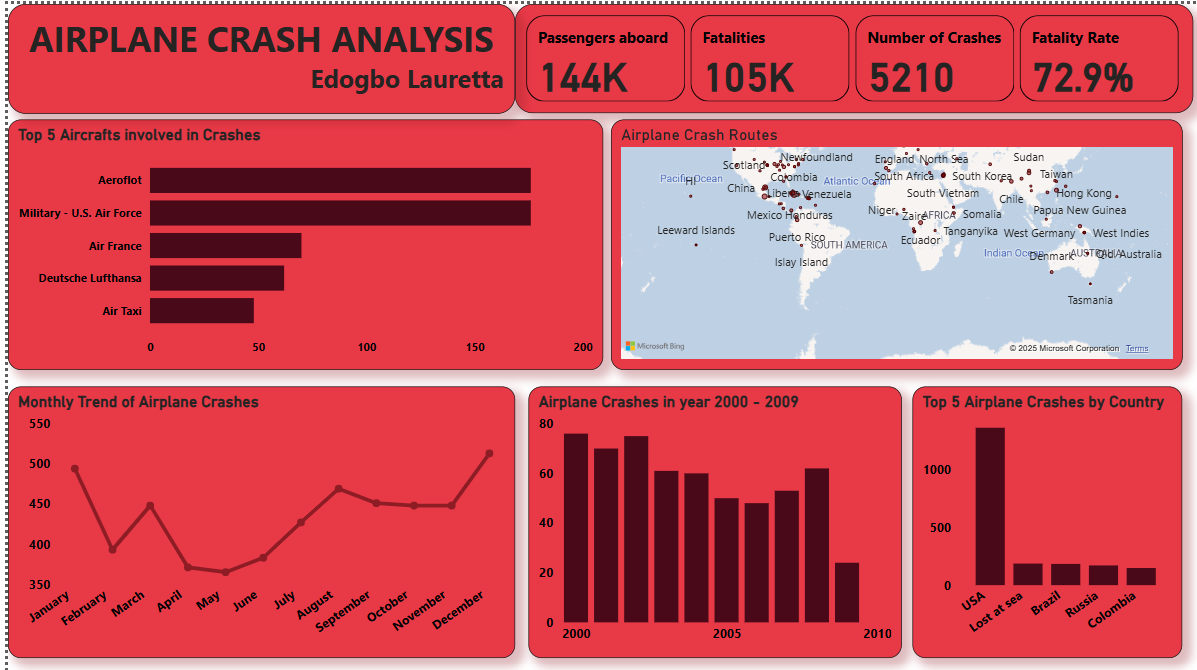

This screenshot's page, from the dashboard's own definition file:
{"tool":"powerbi","page":{"name":"Page 1","canvas":[1280,720],"ordinal":0},"visuals":[{"type":"cardVisual","fields":{"Data":["Measure.Passengers aboard","Measure.Fatalities","Measure.Number of Crashes","Measure.Fatality Rate"]},"box":[545.2,0,729,117],"z":0},{"type":"lineChart","title":"Monthly Trend of Airplane Crashes","fields":{"Category":["Calendar.Date.Variation.Date Hierarchy.Month"],"Y":["Measure.Number of Crashes"]},"box":[0,411.3,545.2,291.9],"z":1000},{"type":"clusteredBarChart","title":"Top 5 Aircrafts involved in Crashes","fields":{"Category":["Airplane_Crashes_and_Fatalities.Operator"],"Y":["Measure.Number of Crashes"]},"box":[0,124.2,640.3,269.4],"z":2000},{"type":"map","title":"Airplane Crash Routes","fields":{"Category":["Airplane_Crashes_and_Fatalities.Country"],"Size":["Measure.Number of Crashes"]},"box":[648.4,124.2,614.5,269.4],"z":3000},{"type":"textbox","box":[0,0,545.2,117.7],"z":4000},{"type":"clusteredColumnChart","title":"Airplane Crashes in year 2000 - 2009","fields":{"Y":["Measure.Number of Crashes"],"Category":["Calendar.Date.Variation.Date Hierarchy.Year"]},"box":[559.7,411.3,401.6,291.9],"z":5000},{"type":"clusteredColumnChart","title":"Top 5 Airplane Crashes by Country","fields":{"Category":["Airplane_Crashes_and_Fatalities.Country"],"Y":["Measure.Number of Crashes"]},"box":[972.6,411.3,290.3,291.9],"z":6000}]}

Visuals, with their boxes in screenshot pixels (x1, y1, x2, y2), scaled from the page's 1280x720 canvas onto the 1197x670 screenshot:
cardVisual - Measure.Passengers aboard x Measure.Fatalities: Rect(510, 0, 1192, 109)
"Monthly Trend of Airplane Crashes" lineChart: Rect(0, 383, 510, 654)
"Top 5 Aircrafts involved in Crashes" clusteredBarChart: Rect(0, 116, 599, 366)
"Airplane Crash Routes" map: Rect(606, 116, 1181, 366)
textbox: Rect(0, 0, 510, 110)
"Airplane Crashes in year 2000 - 2009" clusteredColumnChart: Rect(523, 383, 899, 654)
"Top 5 Airplane Crashes by Country" clusteredColumnChart: Rect(910, 383, 1181, 654)
